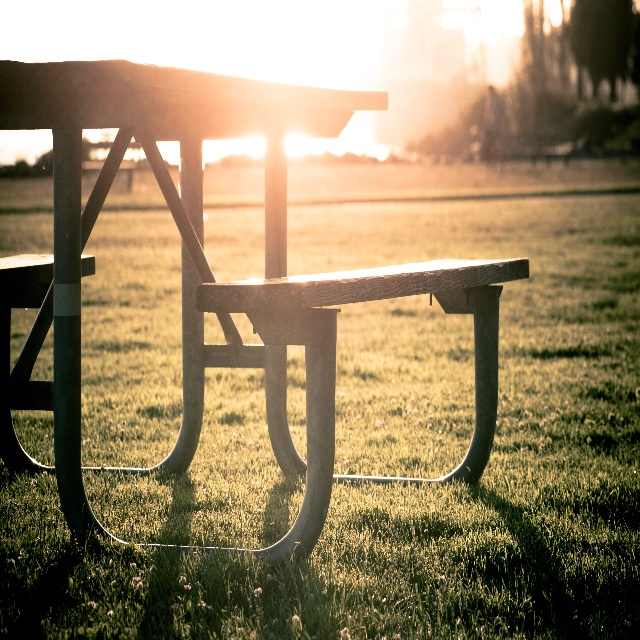obstacle: (3, 35, 538, 597)
